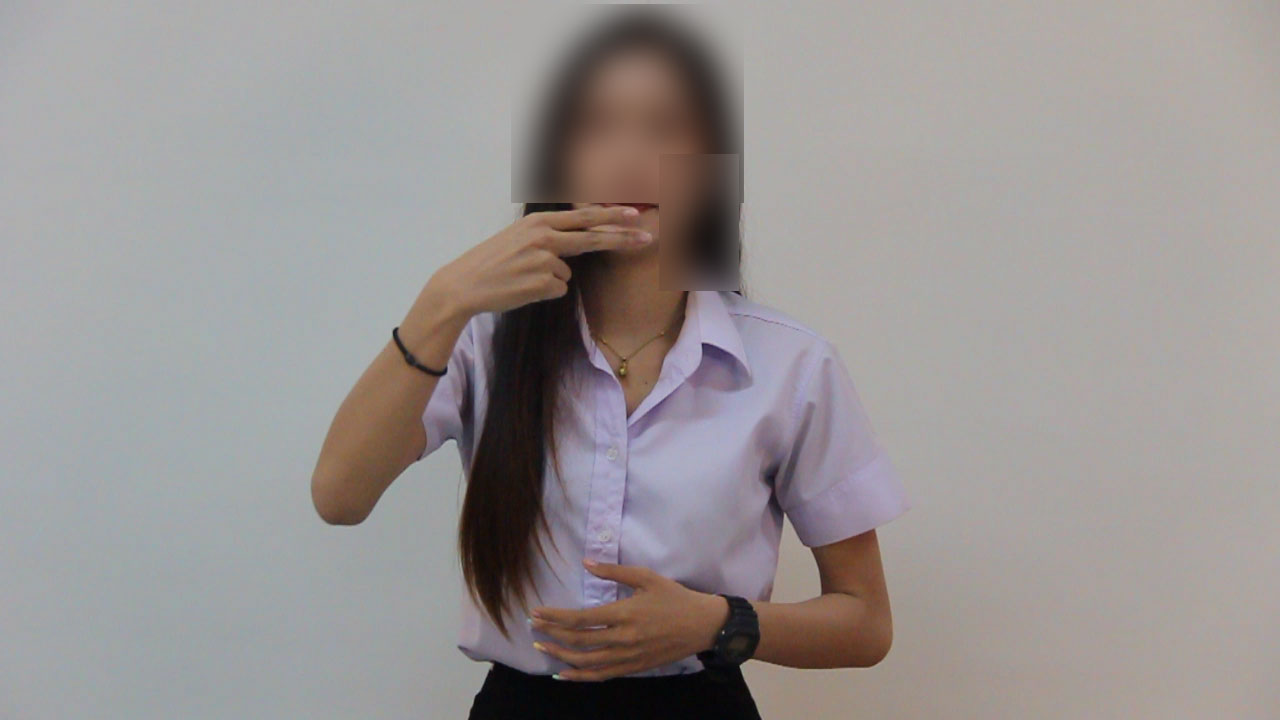hor: (428, 191, 659, 321)
